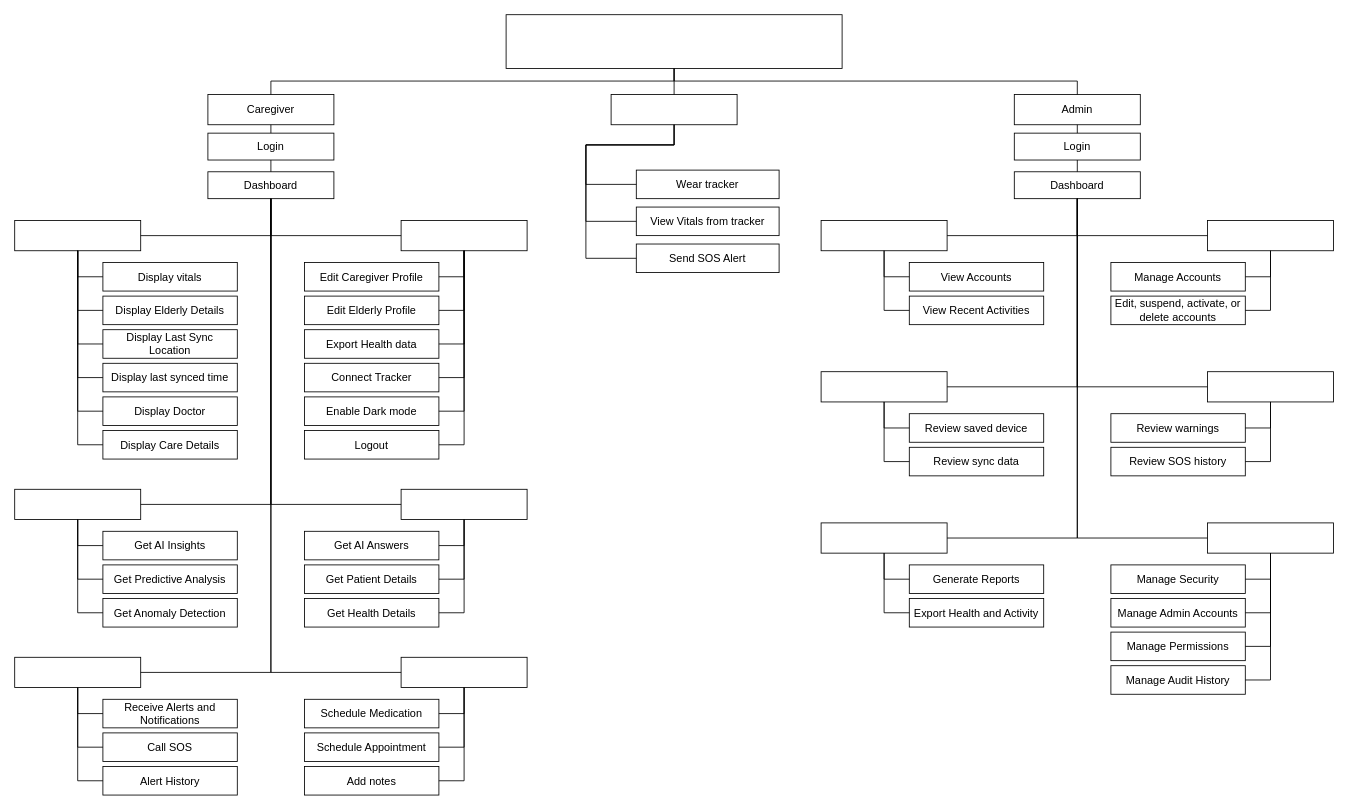
This 1348x810 diagram has some shape labels left out. Each missing label, with the box of its shape:
Accounts: (1207, 220, 1334, 251)
Alerts: (14, 656, 141, 688)
Alerts & Notifications: (1207, 371, 1334, 402)
Care: (400, 656, 527, 688)
ElderCareAI : AI-Driven IoT System for Elderly Monitoring and Caregiver Support: (505, 14, 842, 68)
Elderly Person: (610, 94, 737, 125)
Elle AI Assistant: (400, 488, 527, 520)
Health: (14, 488, 141, 520)
Home: (14, 220, 141, 251)
Overview: (820, 220, 947, 251)
Reports: (820, 522, 947, 553)
Security: (1207, 522, 1334, 553)
Settings: (400, 220, 527, 251)
System Monitor: (820, 371, 947, 402)
